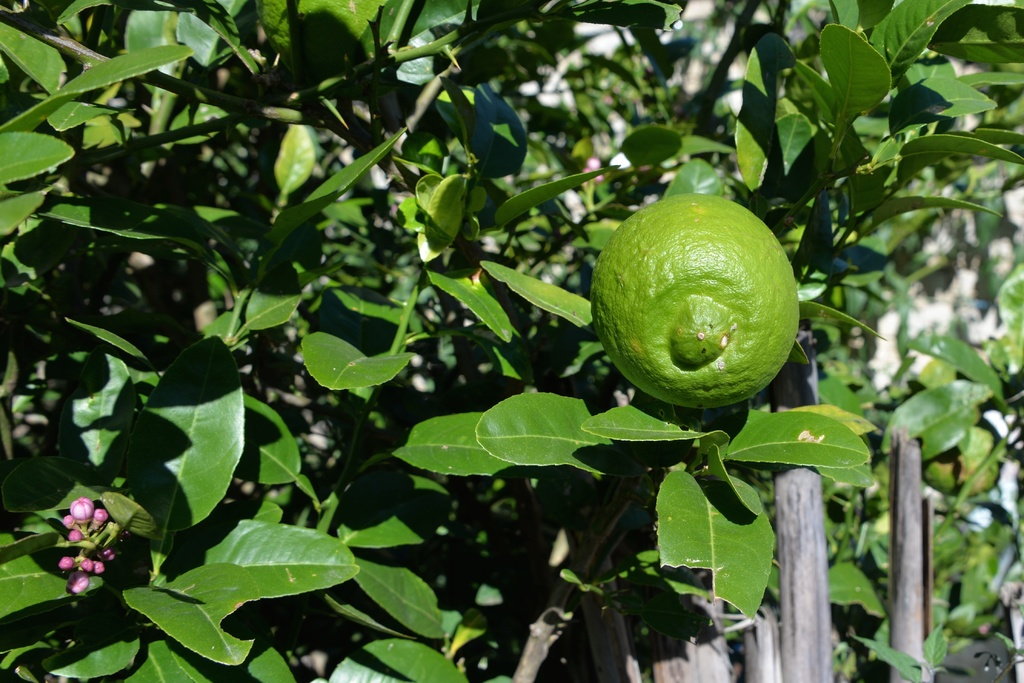Ripe: (575, 187, 810, 405), (924, 427, 1002, 492)
